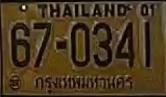0: (71, 23, 90, 67)
1: (144, 20, 150, 67)
3: (92, 22, 112, 67)
4: (115, 21, 136, 67)
6: (11, 22, 30, 67)
7: (33, 22, 51, 66)
BKK: (31, 74, 138, 95)
